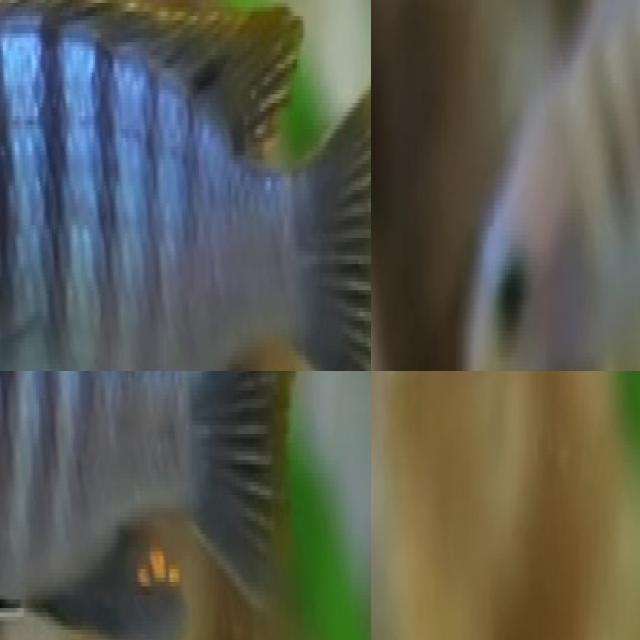fish: (0, 0, 371, 371), (0, 371, 305, 640)
